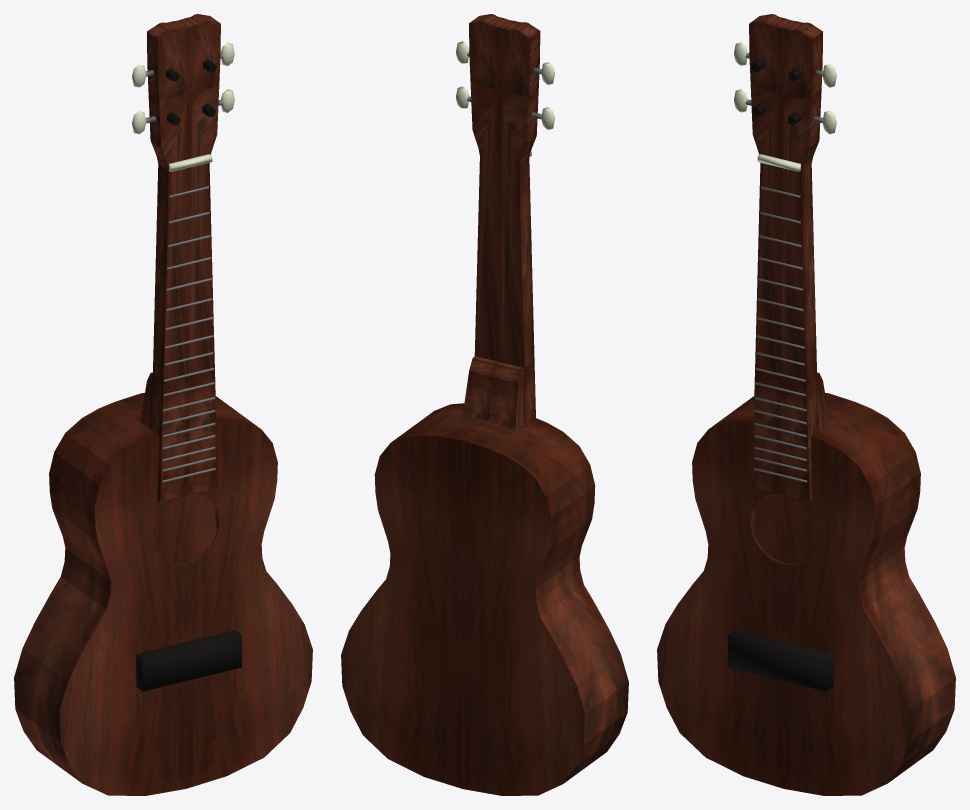
Rendered from guitar.obj.
3 renders of one model, left to right at view 1: azimuth 30°, elevation 25°; view 2: azimuth 150°, elevation 25°; view 3: azimuth 330°, elevation 25°, orthographic. The views are drawn at different scales.
Visible parts, largest first — view 1: Kasa, Klavye, botp, fret, kul, tut; view 2: Kasa, Klavye, kul; view 3: Kasa, Klavye, botp, fret, kul, tut.
Part boxes in pixels (x1,y1,x2,y2): Kasa: [14, 393, 312, 795]; Klavye: [140, 14, 220, 501]; botp: [136, 630, 241, 691]; fret: [162, 186, 215, 482]; kul: [132, 42, 234, 134]; tut: [166, 59, 216, 125]; Kasa: [341, 403, 628, 795]; Klavye: [462, 14, 540, 430]; kul: [456, 41, 554, 129]; Kasa: [657, 393, 955, 795]; Klavye: [749, 14, 829, 501]; botp: [728, 630, 833, 691]; fret: [754, 186, 807, 482]; kul: [734, 42, 836, 134]; tut: [751, 59, 802, 125].
Size of the model in its own units: 275 by 794 by 102.
